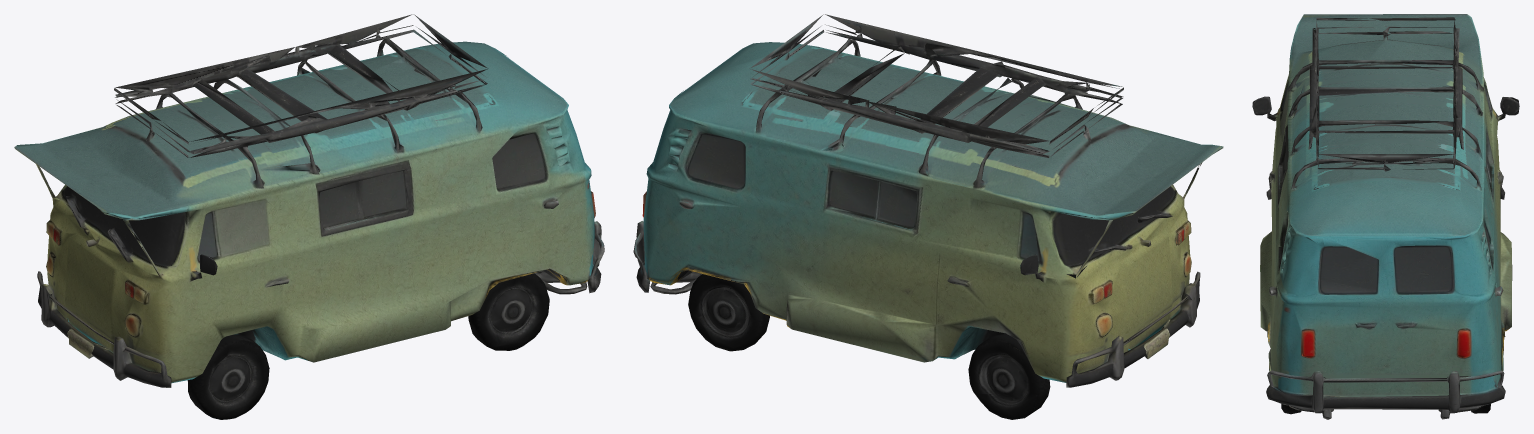
The model's file is car-rapide.glb.
3 renders of one model, left to right at view 1: azimuth 30°, elevation 25°; view 2: azimuth 150°, elevation 25°; view 3: azimuth 270°, elevation 25°, orthographic. The views are drawn at different scales.
Bounding box in the file's own units: 1.89 × 0.9721 × 0.9295.
1 material, 1 textured.
